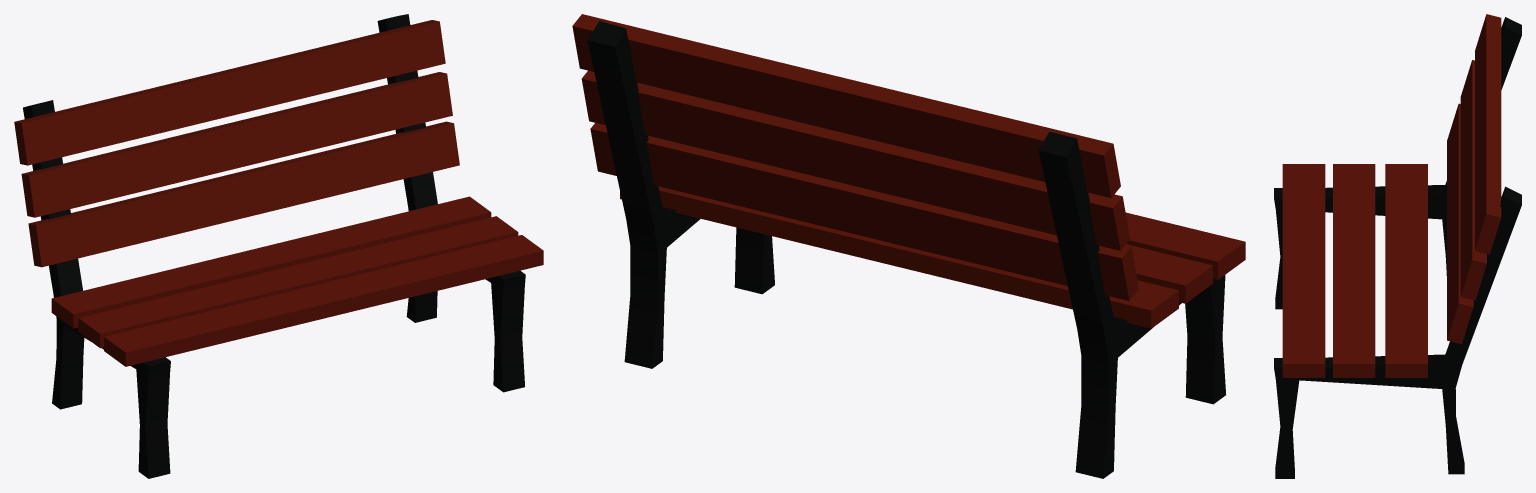
The model's file is Banc.FBX.
3 views of the same model, side by side, from view 1: azimuth 30°, elevation 25°; view 2: azimuth 150°, elevation 25°; view 3: azimuth 270°, elevation 25° (orthographic). The views are drawn at different scales.
Parts seen in each view (by area): view 1: Box001; view 2: Box001; view 3: Box001.
Boxes of the visible parts, x1,y1,x2,y2 form: Box001: (14,14,543,478); Box001: (572,14,1245,478); Box001: (1274,14,1521,478).
Size of the model in its own units: 50.12 by 32.97 by 26.26.
